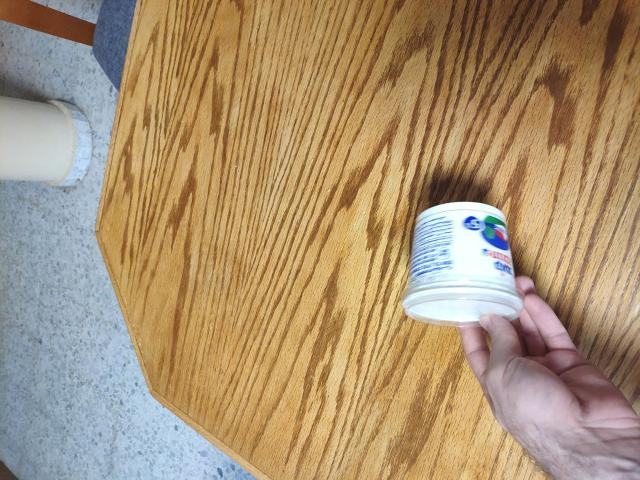cotage: (382, 208, 532, 348)
